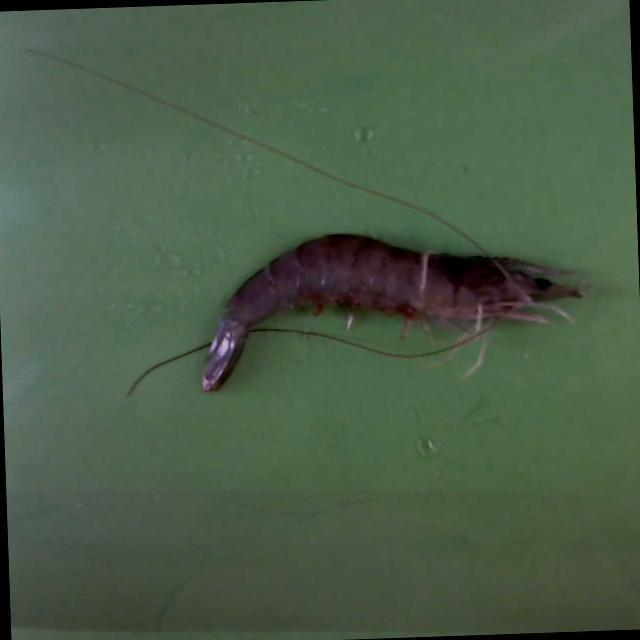shrimp: (202, 235, 583, 391)
